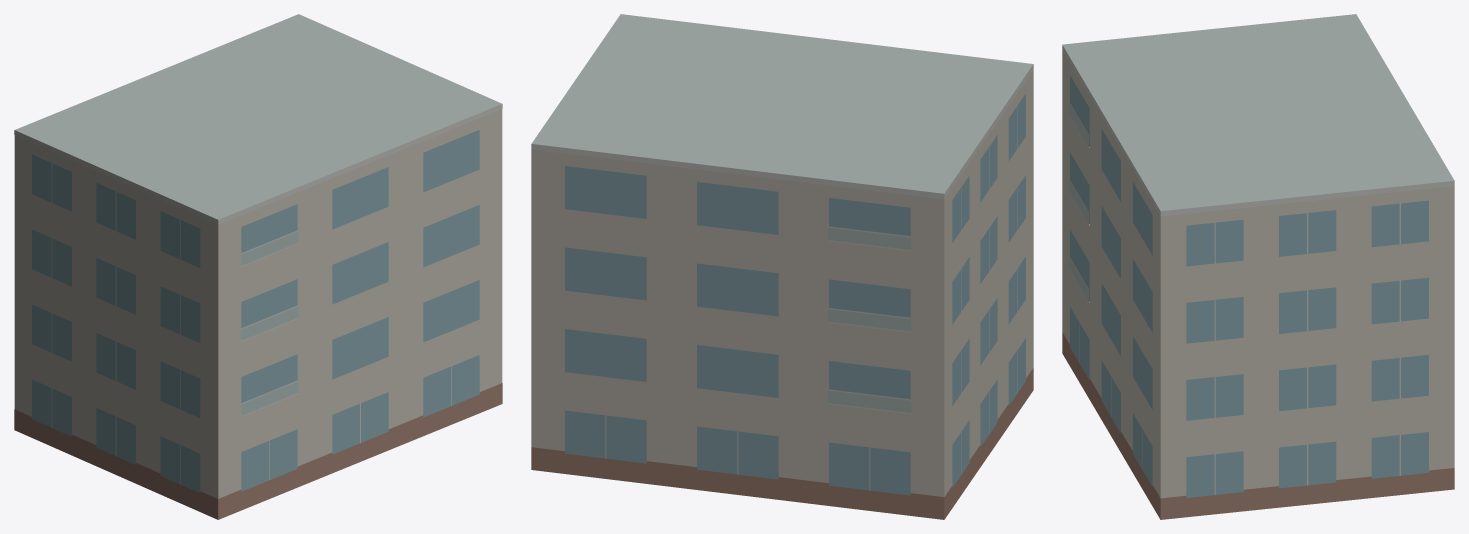
Rendered from survey-upis-32972572.glb.
The picture shows the model from 3 angles, left to right: view 1: azimuth 30°, elevation 25°; view 2: azimuth 150°, elevation 25°; view 3: azimuth 270°, elevation 25°; orthographic projection. The views are drawn at different scales.
Parts seen in each view (by area): view 1: survey-upis-32972572.tmp; view 2: survey-upis-32972572.tmp; view 3: survey-upis-32972572.tmp.
Boxes of the visible parts, x1,y1,x2,y2 form: survey-upis-32972572.tmp: [14, 14, 502, 519]; survey-upis-32972572.tmp: [531, 14, 1033, 519]; survey-upis-32972572.tmp: [1062, 14, 1454, 519].
Bounding box in the file's own units: 19.74 × 14.4 × 16.6.
